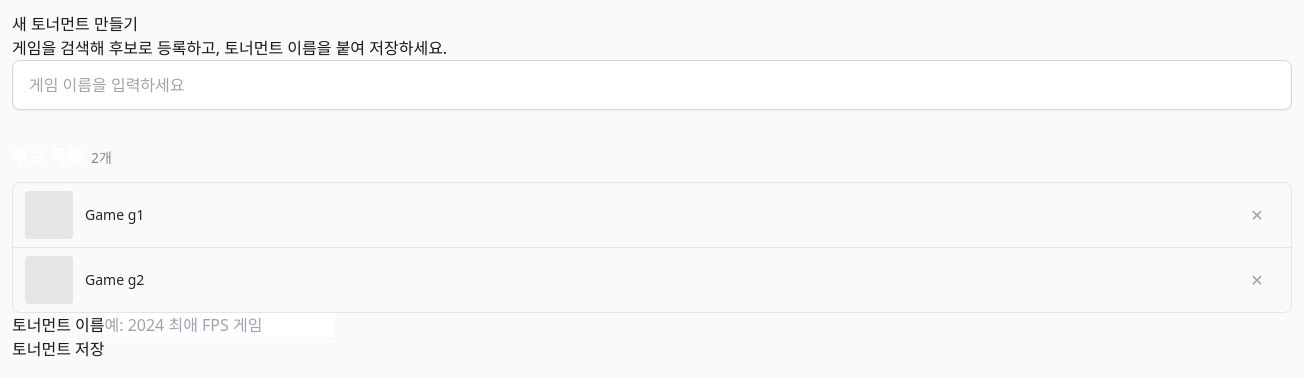
Test: CreatePage (Task #116, 토너먼트 생성) › 저장 중일 때 버튼 텍스트가 '저장 중…'으로 바뀌고 비활성화된다
Type "내 토너먼트" into the field labelled "토너먼트 이름".
click(220, 325); type("내 토너먼트")  # box x1=104 y1=313 x2=336 y2=337
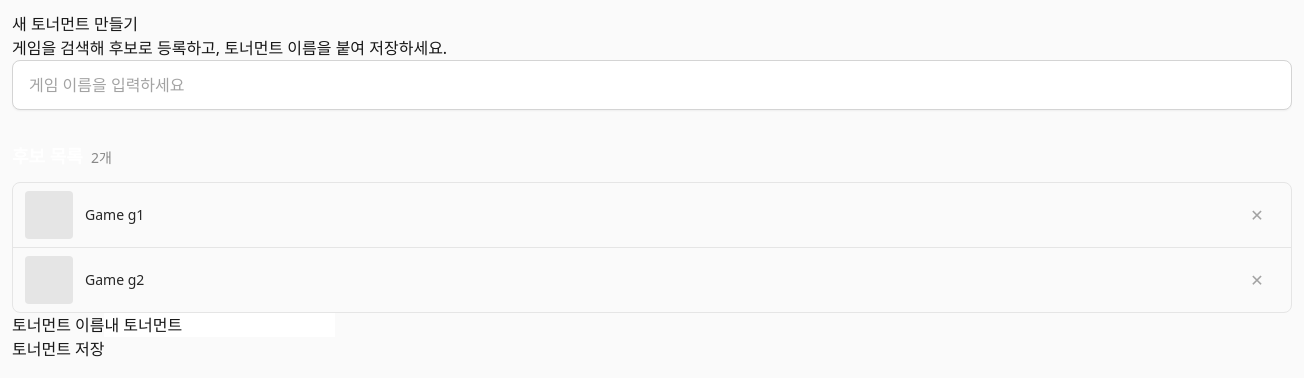
Click the button "토너먼트 저장".
click(58, 349)  # box x1=12 y1=337 x2=104 y2=361
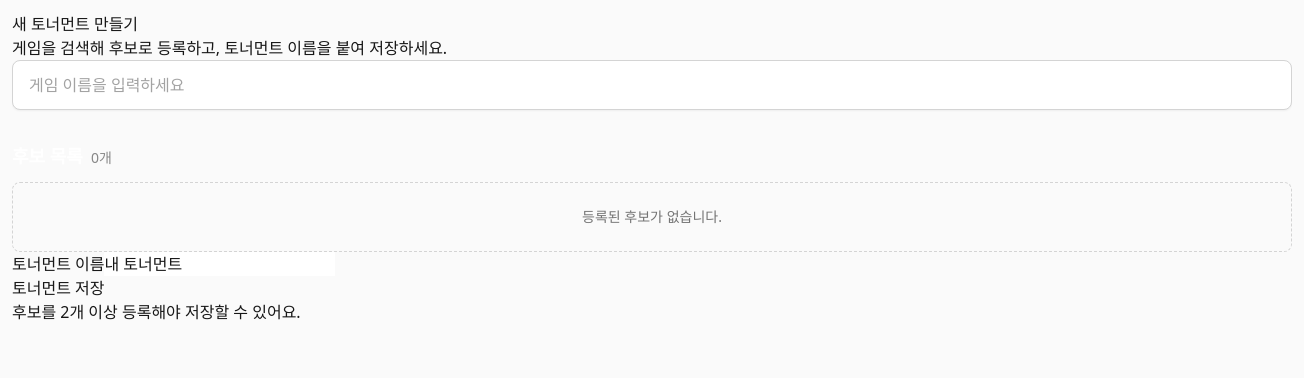
expect the button named "저장 중…" is disabled: met, box x1=12 y1=276 x2=104 y2=300
